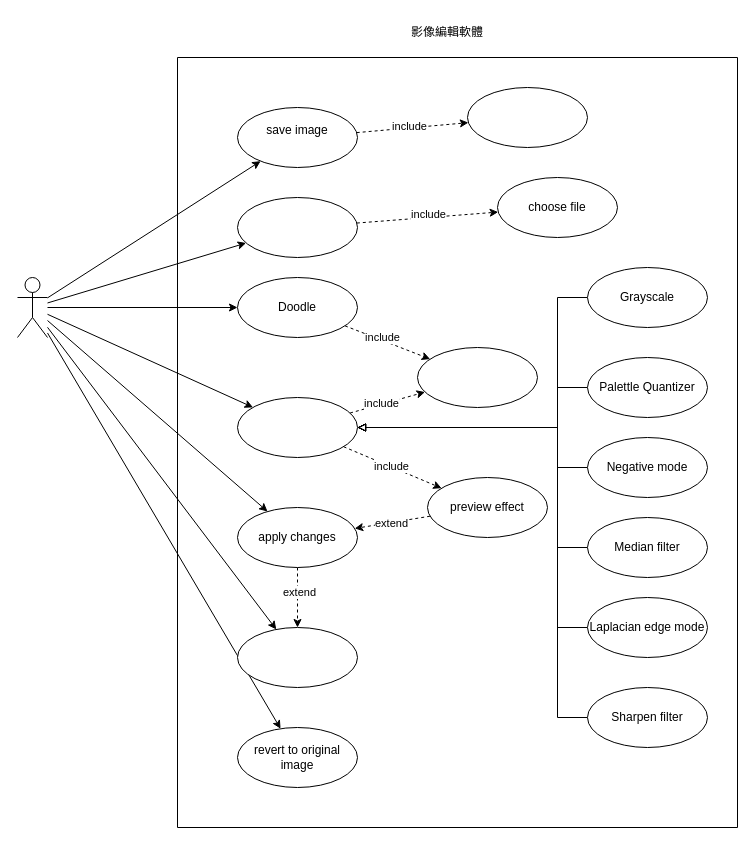
This 755x845 diagram has some shape labels left out. The centre of each missing label's shape, as x and y in pixels:
apply filter: pixel 297 427
choose path: pixel 527 117
configure parameters: pixel 477 377
open image: pixel 297 227
u ndo action: pixel 297 657
User: pixel 32 307
